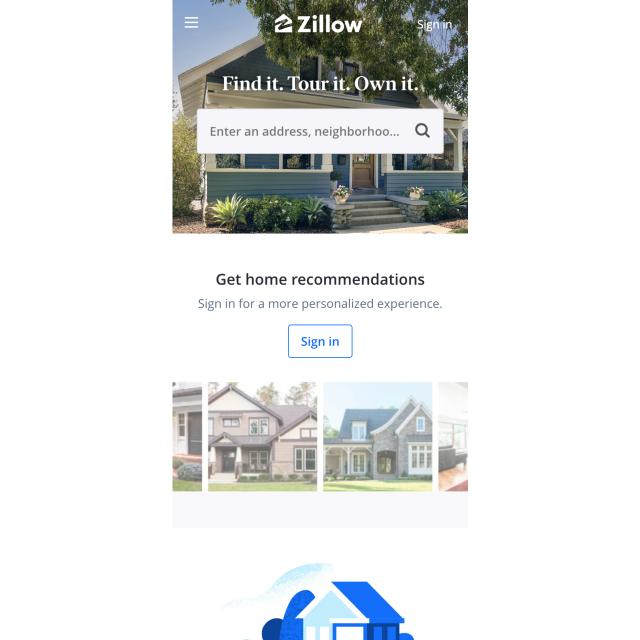input: (198, 108, 444, 154)
logo: (273, 11, 364, 37)
navigation: (181, 11, 204, 34)
